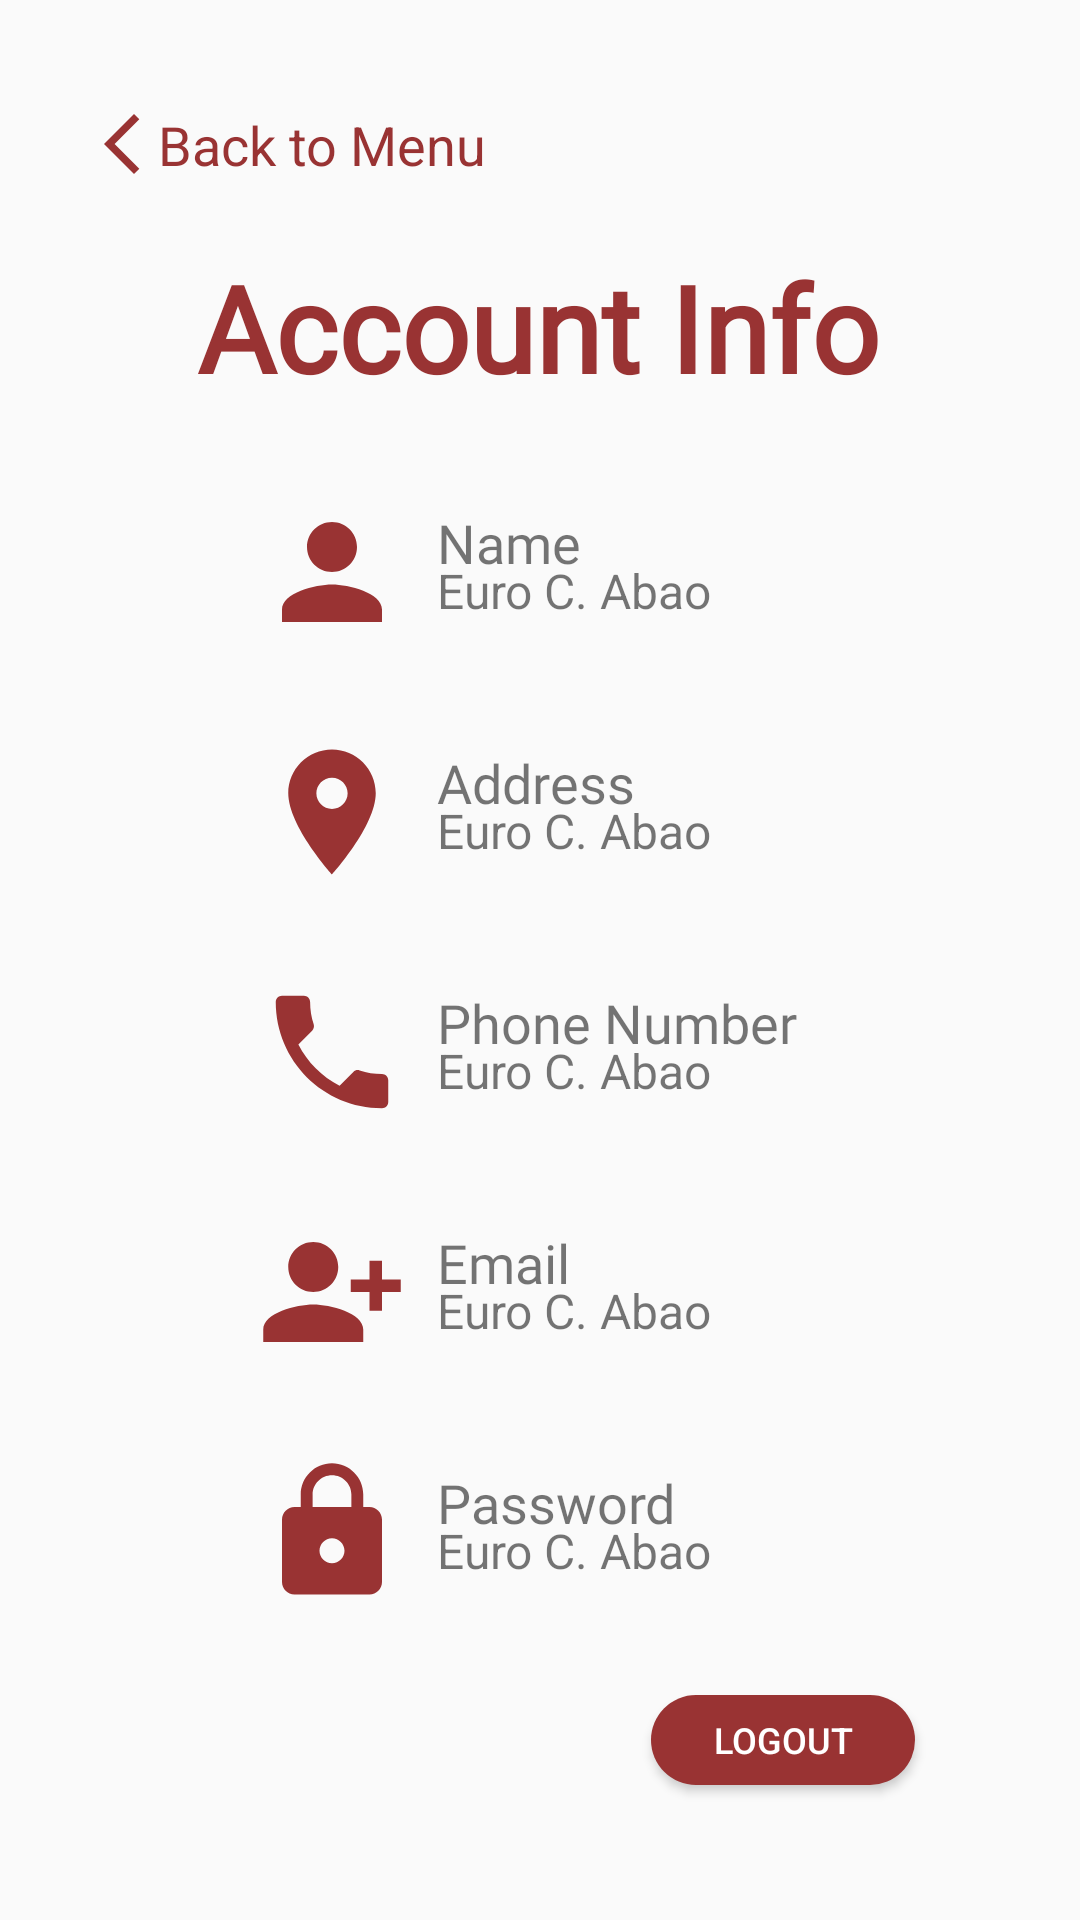

Locate icon controls on the screen. Image size 1080px x 1920px, boxes as (x1, y1, x2, y2).
location: (288, 749, 376, 875)
person: (282, 522, 382, 622)
